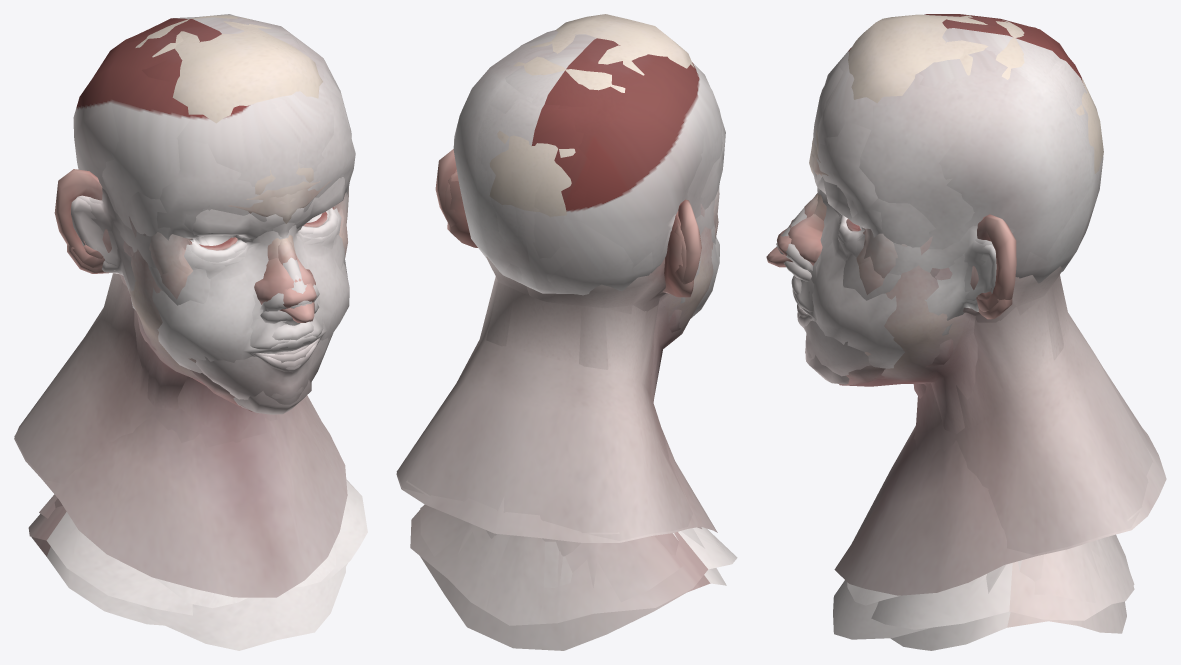
File: PERSONAJES_FIN.fbx_CABEZAS.fbx
3 renders of one model, left to right at view 1: azimuth 30°, elevation 25°; view 2: azimuth 150°, elevation 25°; view 3: azimuth 270°, elevation 25°, orthographic. The views are drawn at different scales.
Visible parts, largest first — view 1: CBZ_M_02, CBZ_F_04, CBZ_M_03, CBZ_F_01, CBZ_F_02, CBZ_F_03, CBZ_M_04, CBZ_M_01; view 2: CBZ_M_03, CBZ_F_04, CBZ_F_01, CBZ_F_02, CBZ_F_03, CBZ_M_02, CBZ_M_04, CBZ_M_01; view 3: CBZ_F_04, CBZ_M_03, CBZ_M_02, CBZ_F_01, CBZ_F_02, CBZ_M_04, CBZ_F_03, CBZ_M_01.
Boxes of the visible parts, x1=… form: CBZ_M_02: x1=14, y1=15, x2=347, y2=597; CBZ_F_04: x1=28, y1=33, x2=367, y2=615; CBZ_M_03: x1=14, y1=181, x2=348, y2=484; CBZ_F_01: x1=81, y1=16, x2=351, y2=608; CBZ_F_02: x1=31, y1=17, x2=355, y2=625; CBZ_F_03: x1=39, y1=14, x2=346, y2=650; CBZ_M_04: x1=54, y1=17, x2=346, y2=322; CBZ_M_01: x1=76, y1=163, x2=347, y2=308; CBZ_M_03: x1=396, y1=187, x2=719, y2=540; CBZ_F_04: x1=410, y1=49, x2=737, y2=625; CBZ_F_01: x1=464, y1=30, x2=722, y2=587; CBZ_F_02: x1=420, y1=34, x2=726, y2=650; CBZ_F_03: x1=420, y1=30, x2=715, y2=623; CBZ_M_02: x1=396, y1=41, x2=717, y2=542; CBZ_M_04: x1=435, y1=14, x2=701, y2=528; CBZ_M_01: x1=406, y1=68, x2=718, y2=534; CBZ_F_04: x1=776, y1=18, x2=1134, y2=629; CBZ_M_03: x1=788, y1=138, x2=1153, y2=554; CBZ_M_02: x1=804, y1=15, x2=1166, y2=595; CBZ_F_01: x1=791, y1=14, x2=1113, y2=605; CBZ_F_02: x1=776, y1=19, x2=1126, y2=650; CBZ_M_04: x1=766, y1=14, x2=1101, y2=398; CBZ_F_03: x1=784, y1=14, x2=1134, y2=639; CBZ_M_01: x1=777, y1=31, x2=1142, y2=521.
Bounding box in the file's own units: 20.8 × 38.42 × 23.63.
